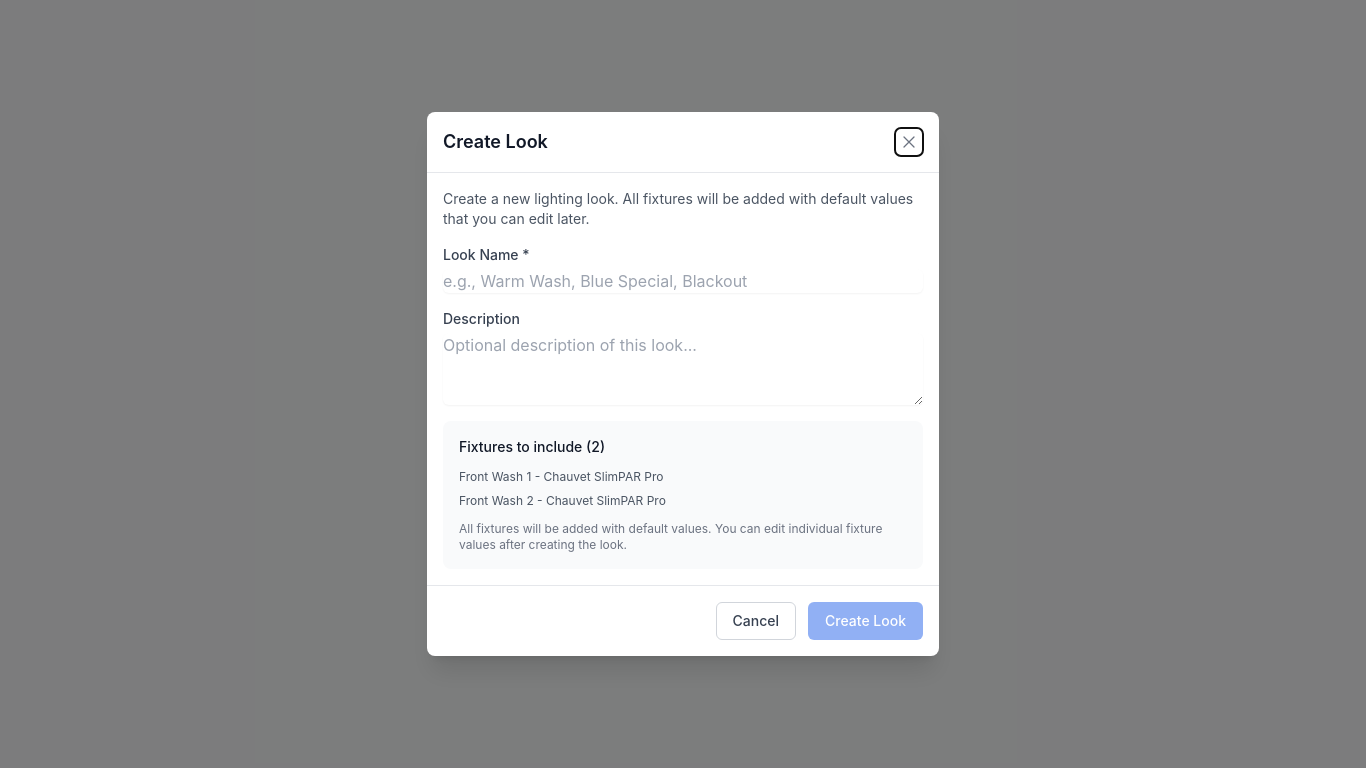
Test: CreateLookModal › form submission › enables submit button when name is provided and fixtures exist
Expected: the heading "Fixtures to include (2)" is shown, x1=459 y1=438 x2=605 y2=455
Type "Test" into the field labelled "Look Name *" at (683, 281), box x1=443 y1=269 x2=923 y2=293
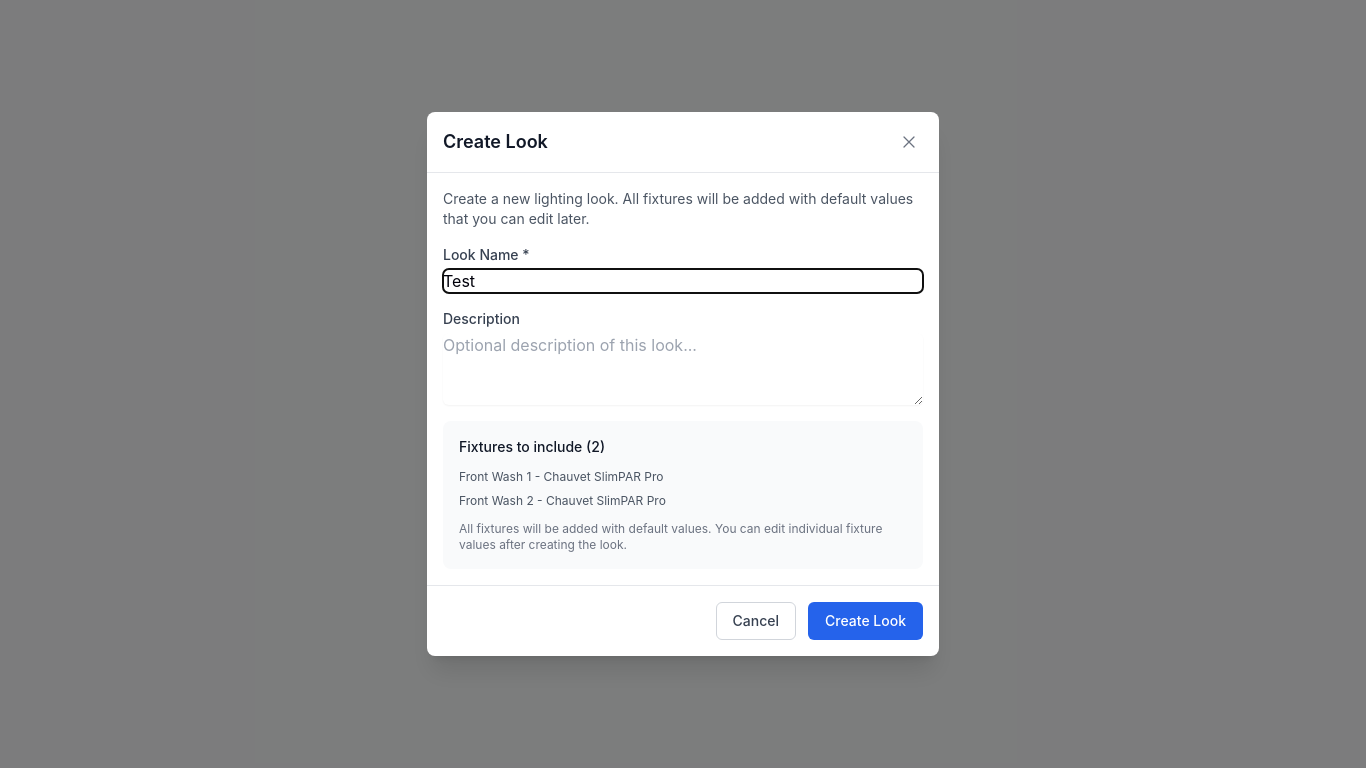
Now the button "Create Look" is enabled, box x1=808 y1=602 x2=923 y2=640
